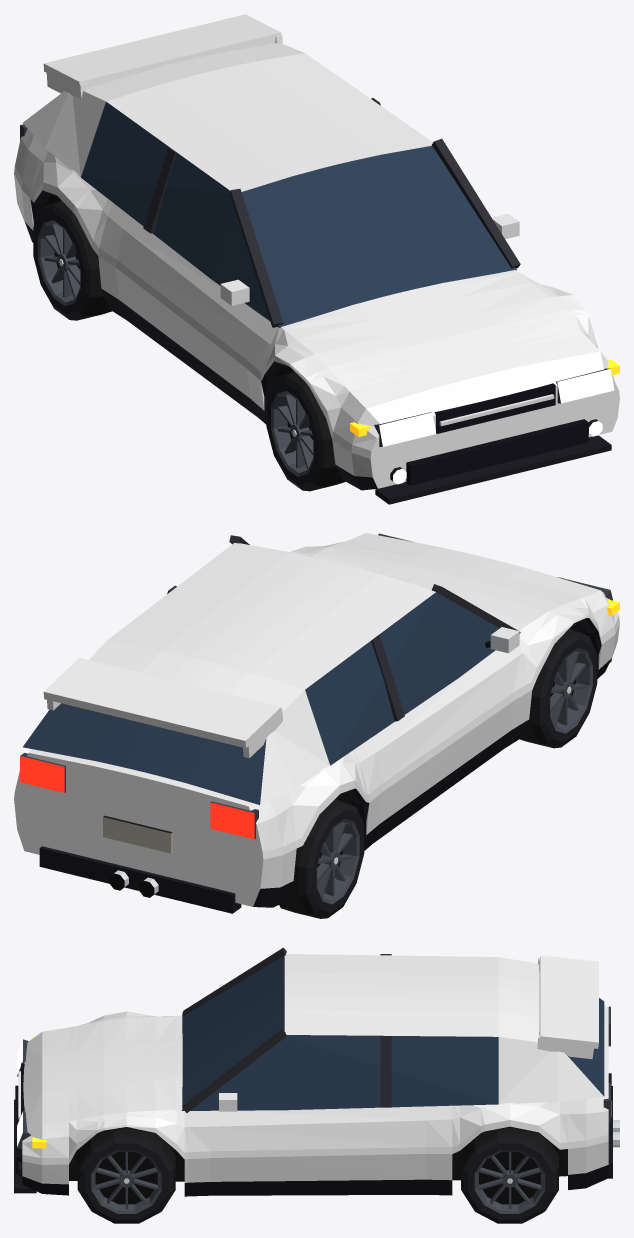
Rendered from hatch.glb.
3 renders of one model, top to bottom at view 1: azimuth 30°, elevation 25°; view 2: azimuth 150°, elevation 25°; view 3: azimuth 270°, elevation 25°, orthographic. The views are drawn at different scales.
Parts seen in each view (by area): view 1: paint, glass, stripe_a, accent, trim, trim_grille, rim_gunmetal (×2), trim_soft, tire_side (×2), stripe_b, headlight, tire (×2); view 2: paint, glass, accent, stripe_a, trim, rim_gunmetal (×2), tire_side (×2), stripe_b, tire (×2), taillight, trim_soft, plate (+2 smaller); view 3: paint, glass, stripe_a, trim, accent, tire_side (×2), rim_gunmetal (×2), trim_under (×3), stripe_b, trim_soft, tire (×2), chrome_housing (+1 smaller).
Part boxes in pixels (box(x1,y1,x2,y2)): paint: box(14, 42, 619, 488); glass: box(81, 101, 516, 327); stripe_a: box(161, 62, 538, 408); accent: box(43, 14, 554, 426); trim: box(20, 190, 611, 504); trim_grille: box(405, 383, 588, 485); rim_gunmetal (×2): box(37, 220, 313, 476); trim_soft: box(143, 98, 520, 327); tire_side (×2): box(33, 205, 323, 490); stripe_b: box(14, 166, 371, 458); headlight: box(379, 369, 614, 484); tire (×2): box(42, 200, 345, 491); paint: box(14, 533, 619, 906); glass: box(23, 592, 499, 804); accent: box(43, 658, 282, 758); stripe_a: box(94, 547, 527, 787); trim: box(39, 618, 611, 913); rim_gunmetal (×2): box(316, 647, 592, 904); tire_side (×2): box(279, 632, 597, 918); stripe_b: box(262, 614, 619, 859); tire (×2): box(279, 628, 588, 918); taillight: box(20, 756, 254, 839); trim_soft: box(167, 535, 520, 721); plate: box(103, 817, 172, 853); paint: box(22, 954, 608, 1184); glass: box(181, 955, 604, 1110); stripe_a: box(23, 973, 608, 1104); trim: box(14, 1073, 612, 1196); accent: box(18, 955, 598, 1119); tire_side (×2): box(79, 1138, 556, 1223); rim_gunmetal (×2): box(91, 1150, 545, 1213); trim_under (×3): box(69, 1144, 567, 1204); stripe_b: box(22, 1120, 608, 1164); trim_soft: box(182, 947, 391, 1112); tire (×2): box(77, 1127, 558, 1211); chrome_housing: box(17, 1006, 610, 1149).
Bounding box in the file's own units: 1.94 × 1.41 × 4.3.
